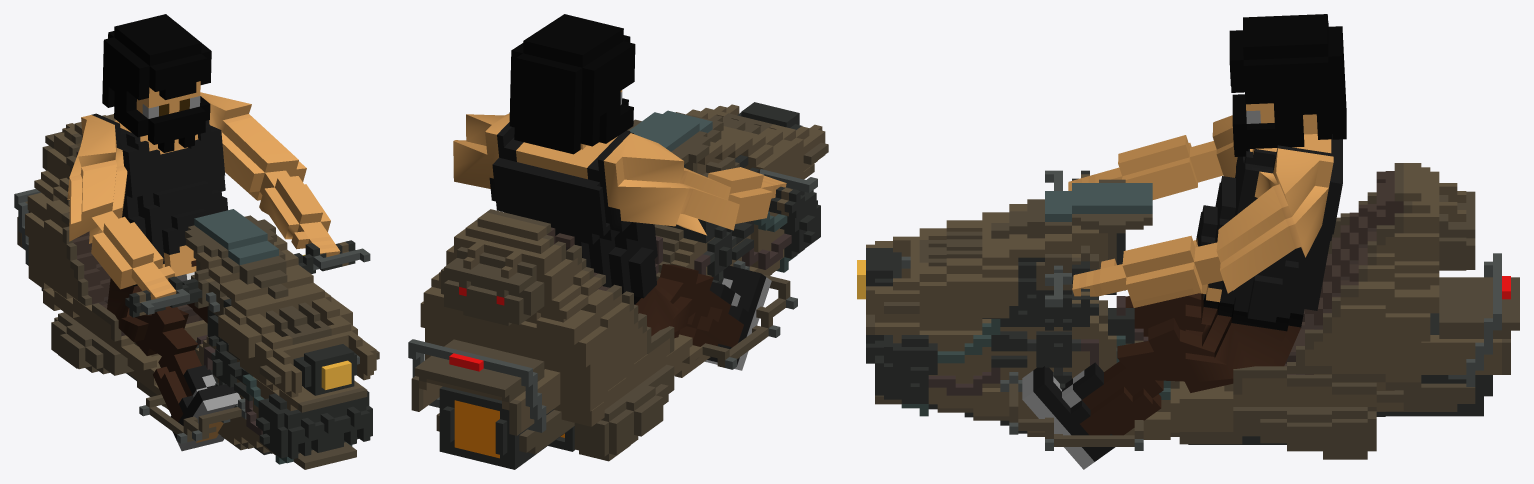
Rendered from OnScooter.obj.
3 renders of one model, left to right at view 1: azimuth 30°, elevation 25°; view 2: azimuth 150°, elevation 25°; view 3: azimuth 270°, elevation 25°, orthographic. The views are drawn at different scales.
Size of the model in its own units: 4.6 by 6.32 by 9.39.
2 materials, 2 textured.
